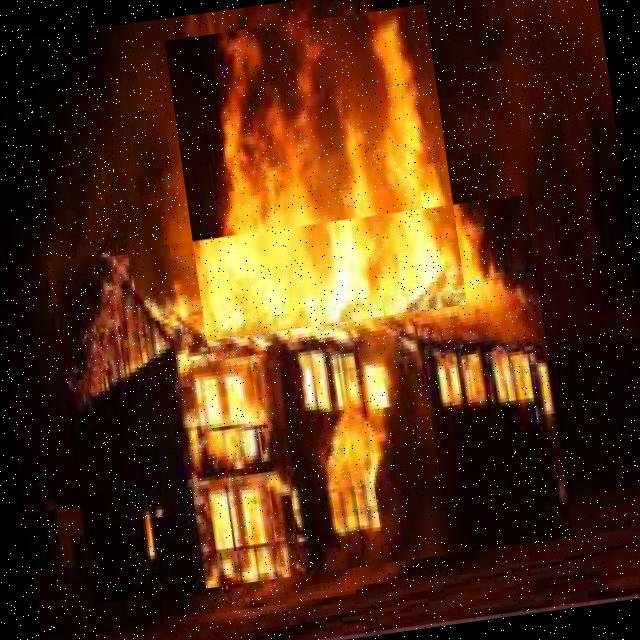fire: (49, 197, 576, 608), (165, 4, 467, 341)
